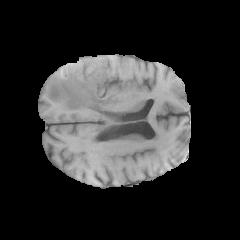glioma: (47, 55, 121, 111)
